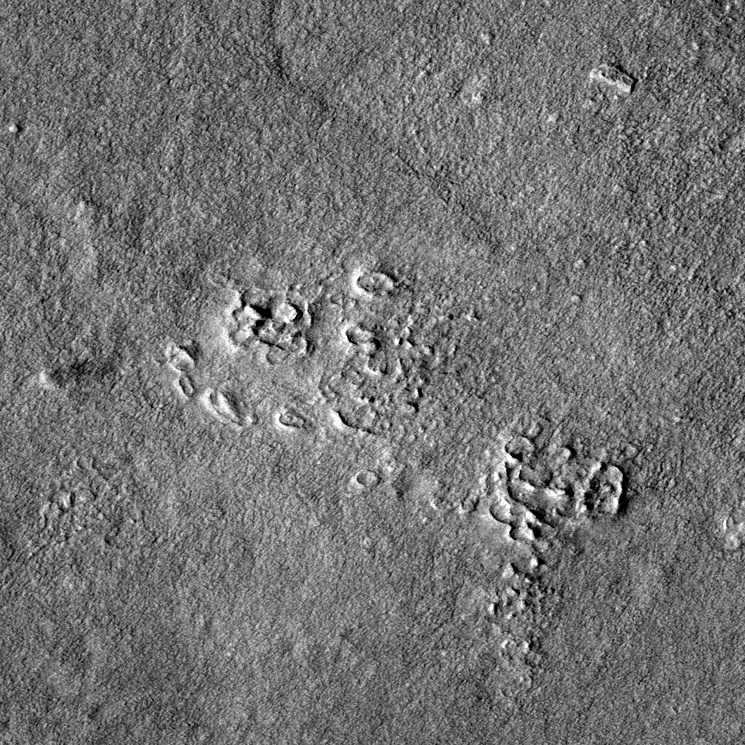dust_devil: (37, 356, 119, 391)
